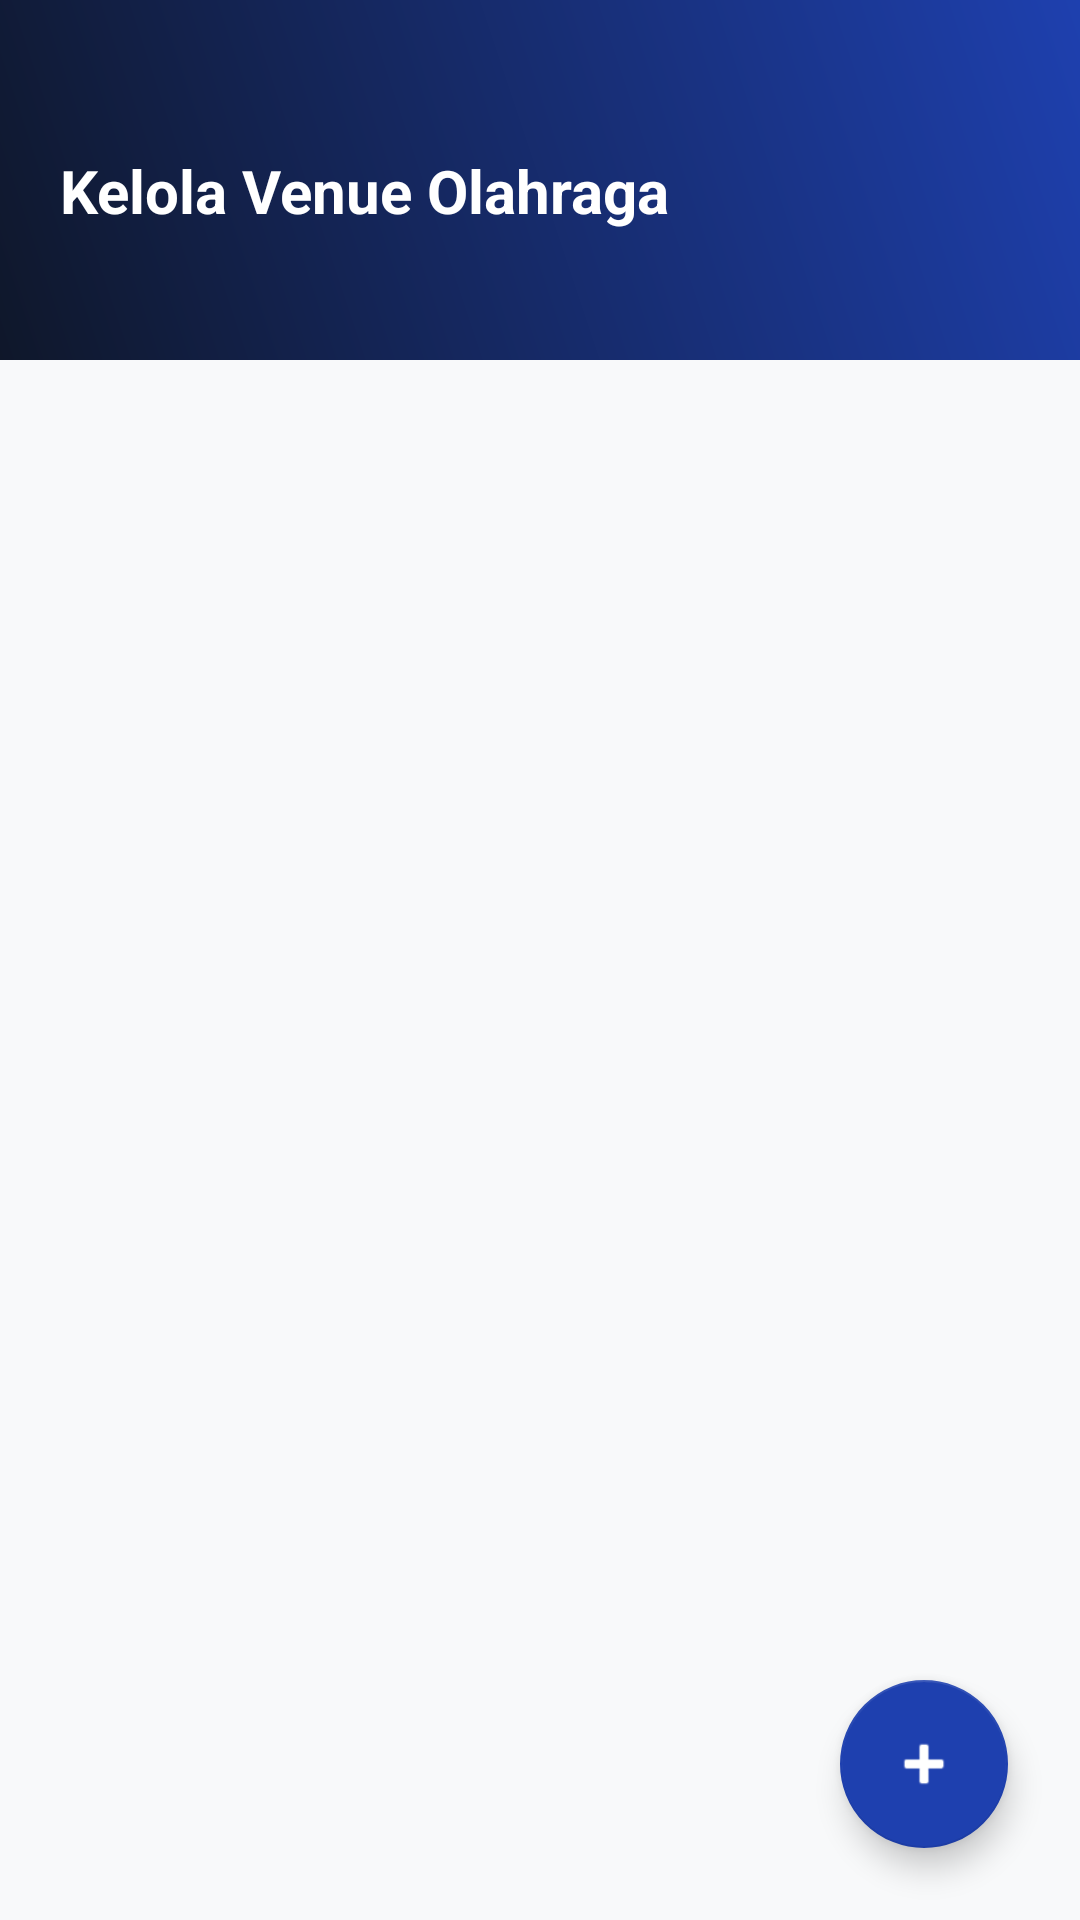

Named icons in this screenshot (1080×1920) and their centers, [x,y]:
Tambah Venue: [924,1764]
